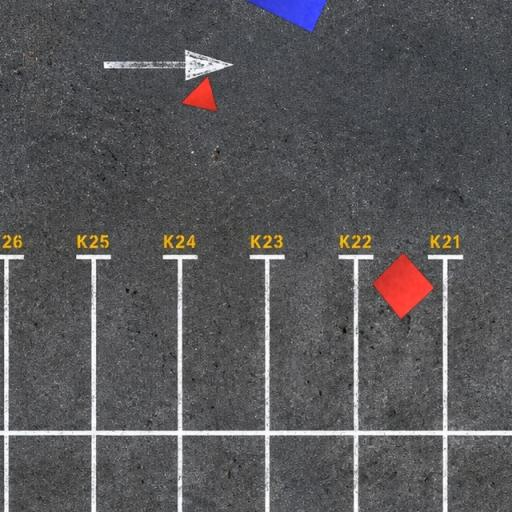RED_SQUARE: (371, 252, 436, 320)
